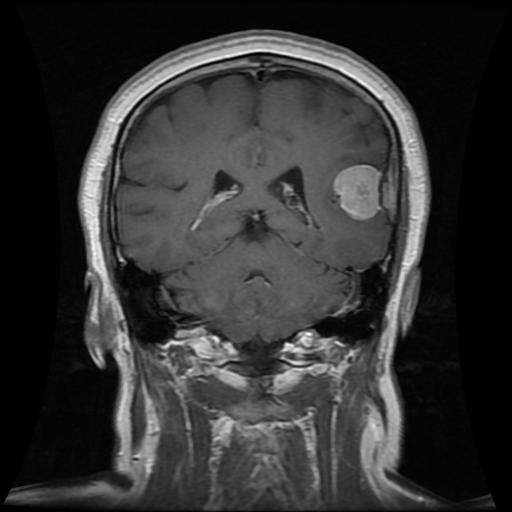Menigiomia_tumour: (331, 162, 380, 218)
